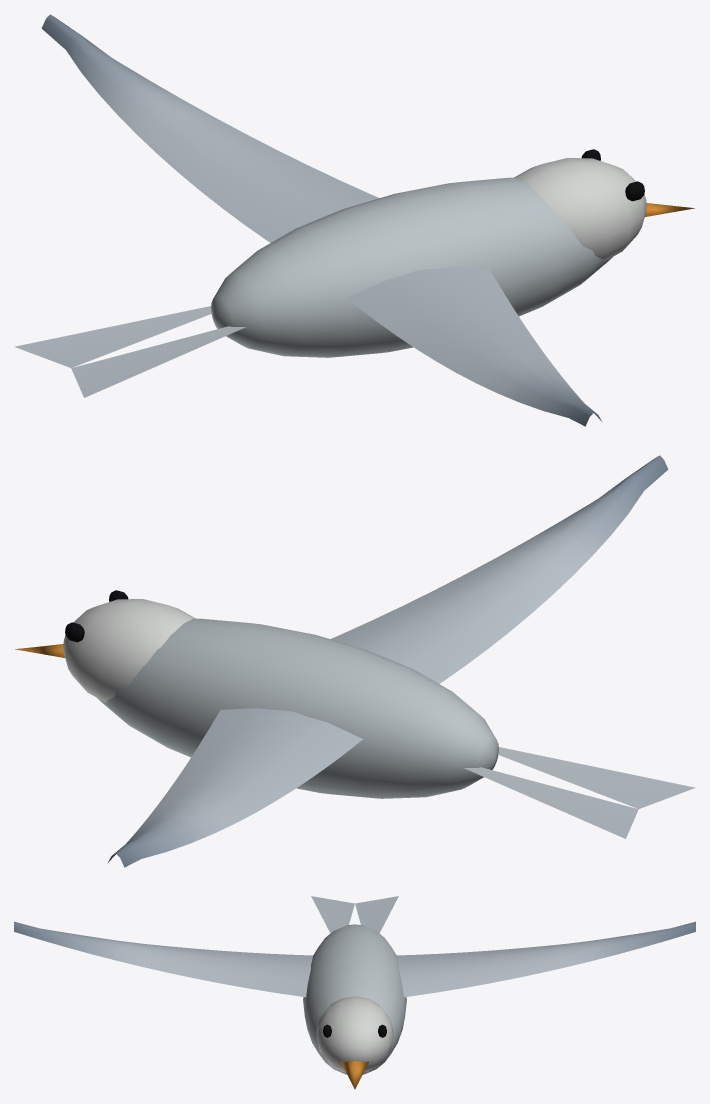
File: SM_DBA_Bird_Seagull_Flight.fbx
3 renders of one model, top to bottom at view 1: azimuth 30°, elevation 25°; view 2: azimuth 150°, elevation 25°; view 3: azimuth 270°, elevation 25°, orthographic. The views are drawn at different scales.
Visible parts, largest first — view 1: SM_DBA_Bird_Seagull; view 2: SM_DBA_Bird_Seagull; view 3: SM_DBA_Bird_Seagull.
Boxes of the visible parts, box(x1,y1,x2,y2) form: SM_DBA_Bird_Seagull: box(14, 14, 694, 426); SM_DBA_Bird_Seagull: box(15, 455, 695, 867); SM_DBA_Bird_Seagull: box(14, 896, 695, 1089).
Bounding box in the file's own units: 1.71 × 1.17 × 0.255.
